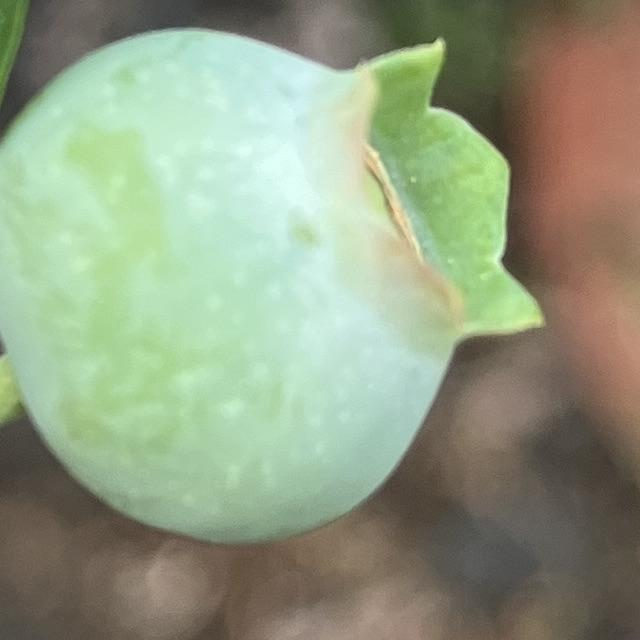Blueberries: (0, 0, 567, 563)
